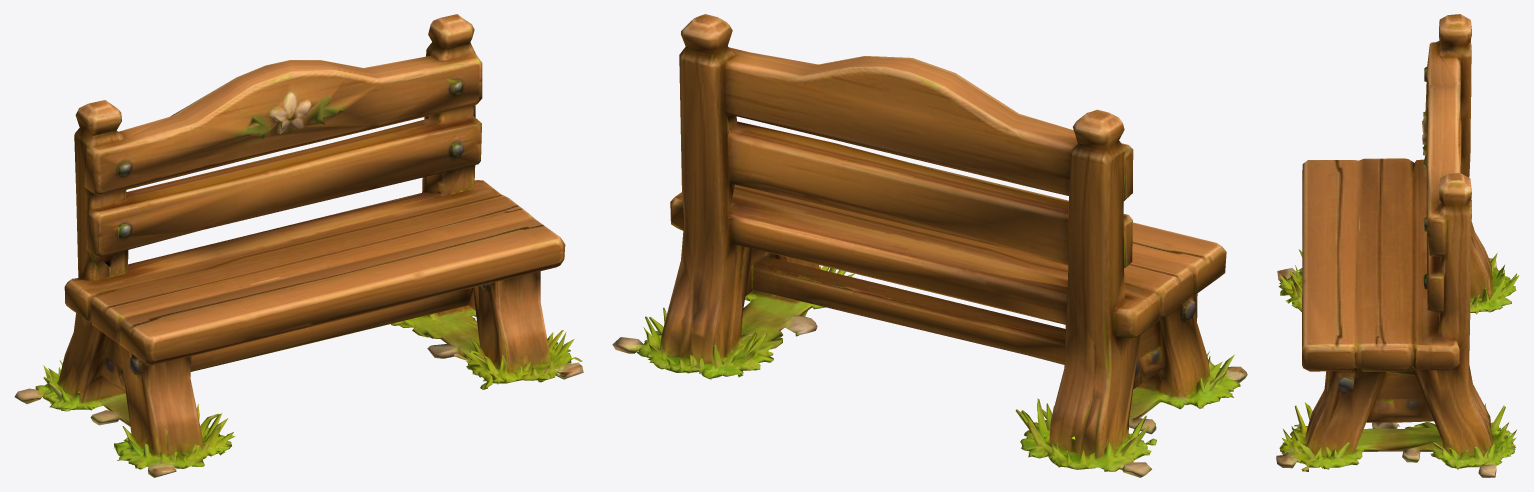
The model's file is bench.glb.
3 views of the same model, side by side, from view 1: azimuth 30°, elevation 25°; view 2: azimuth 150°, elevation 25°; view 3: azimuth 270°, elevation 25° (orthographic). The views are drawn at different scales.
Visible parts, largest first — view 1: Mesh1.0; view 2: Mesh1.0; view 3: Mesh1.0.
Boxes of the visible parts, box(x1,y1,x2,y2) form: Mesh1.0: box(14, 14, 583, 477); Mesh1.0: box(612, 14, 1247, 477); Mesh1.0: box(1276, 14, 1519, 477).
Size of the model in its own units: 1.9 by 1.12 by 0.9043.
1 material, 1 textured.
